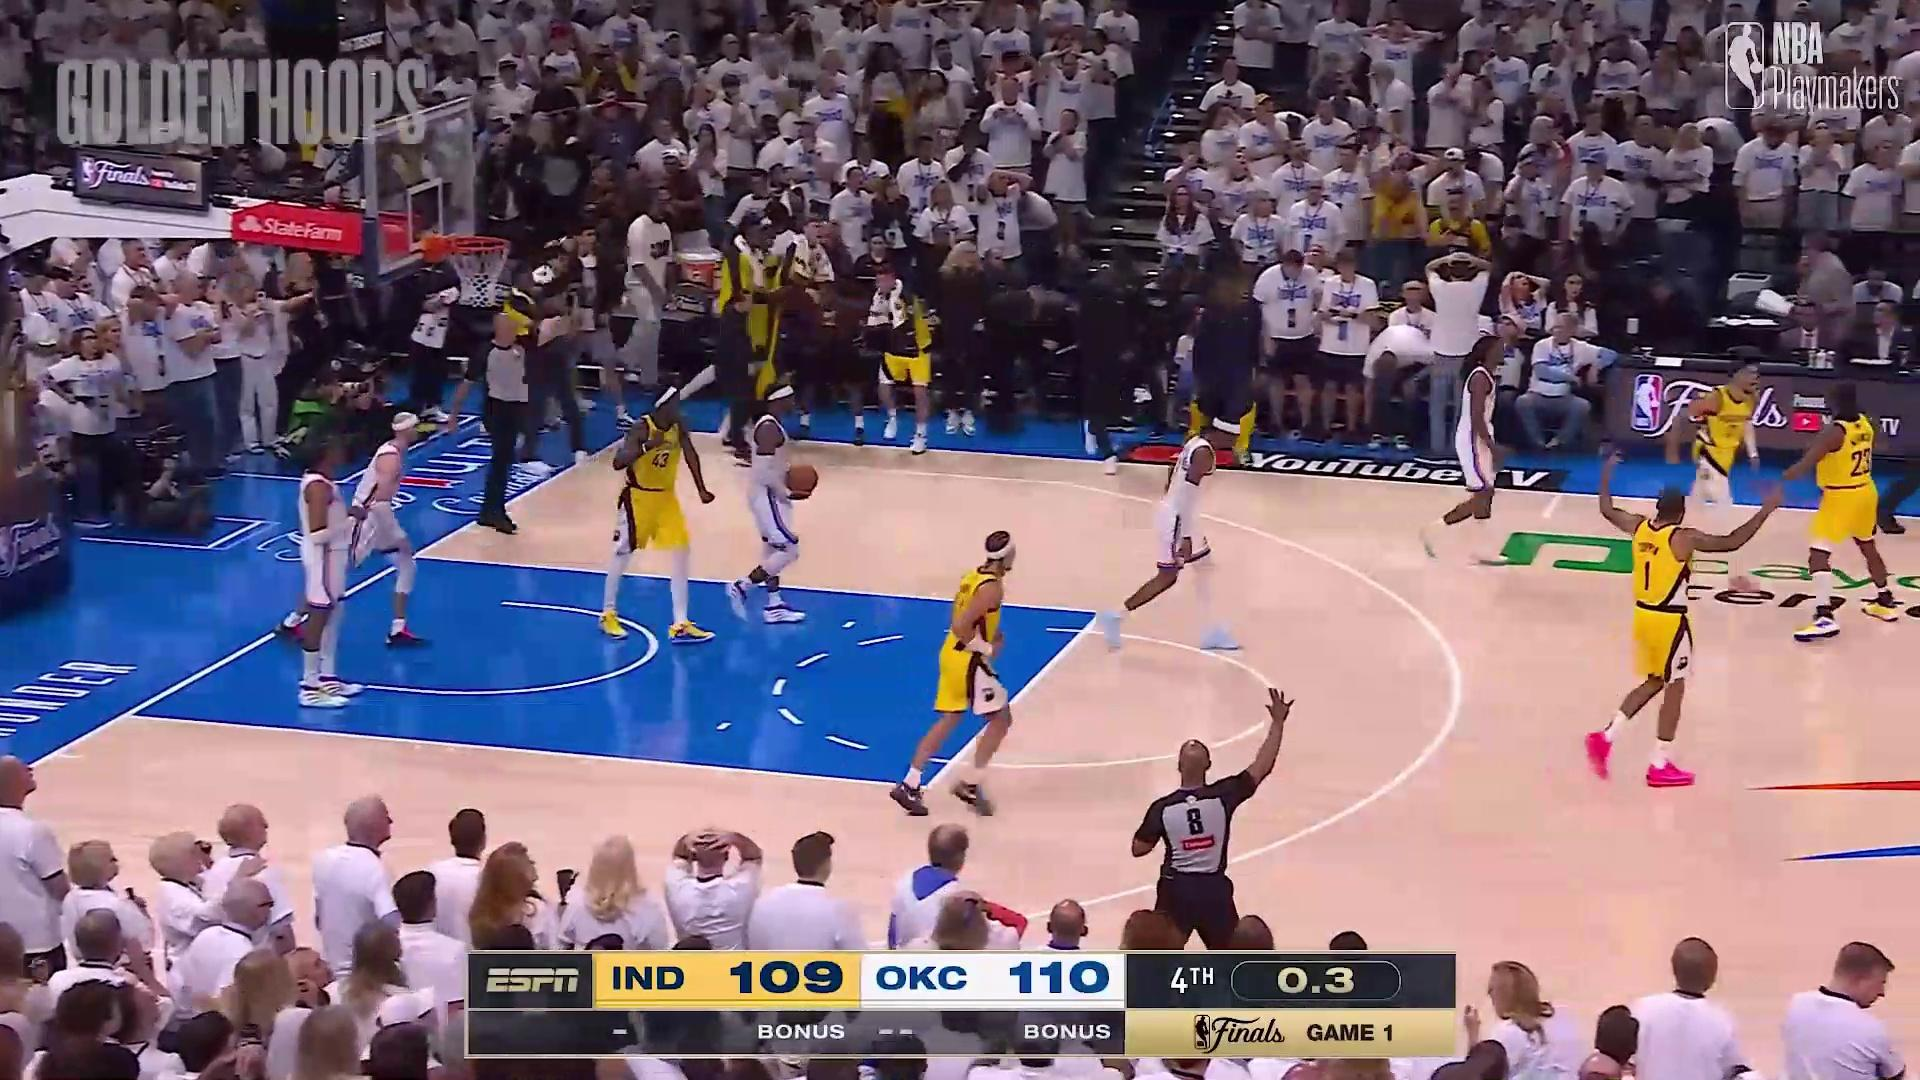ball: (778, 459, 820, 510)
hoop: (448, 216, 509, 313)
